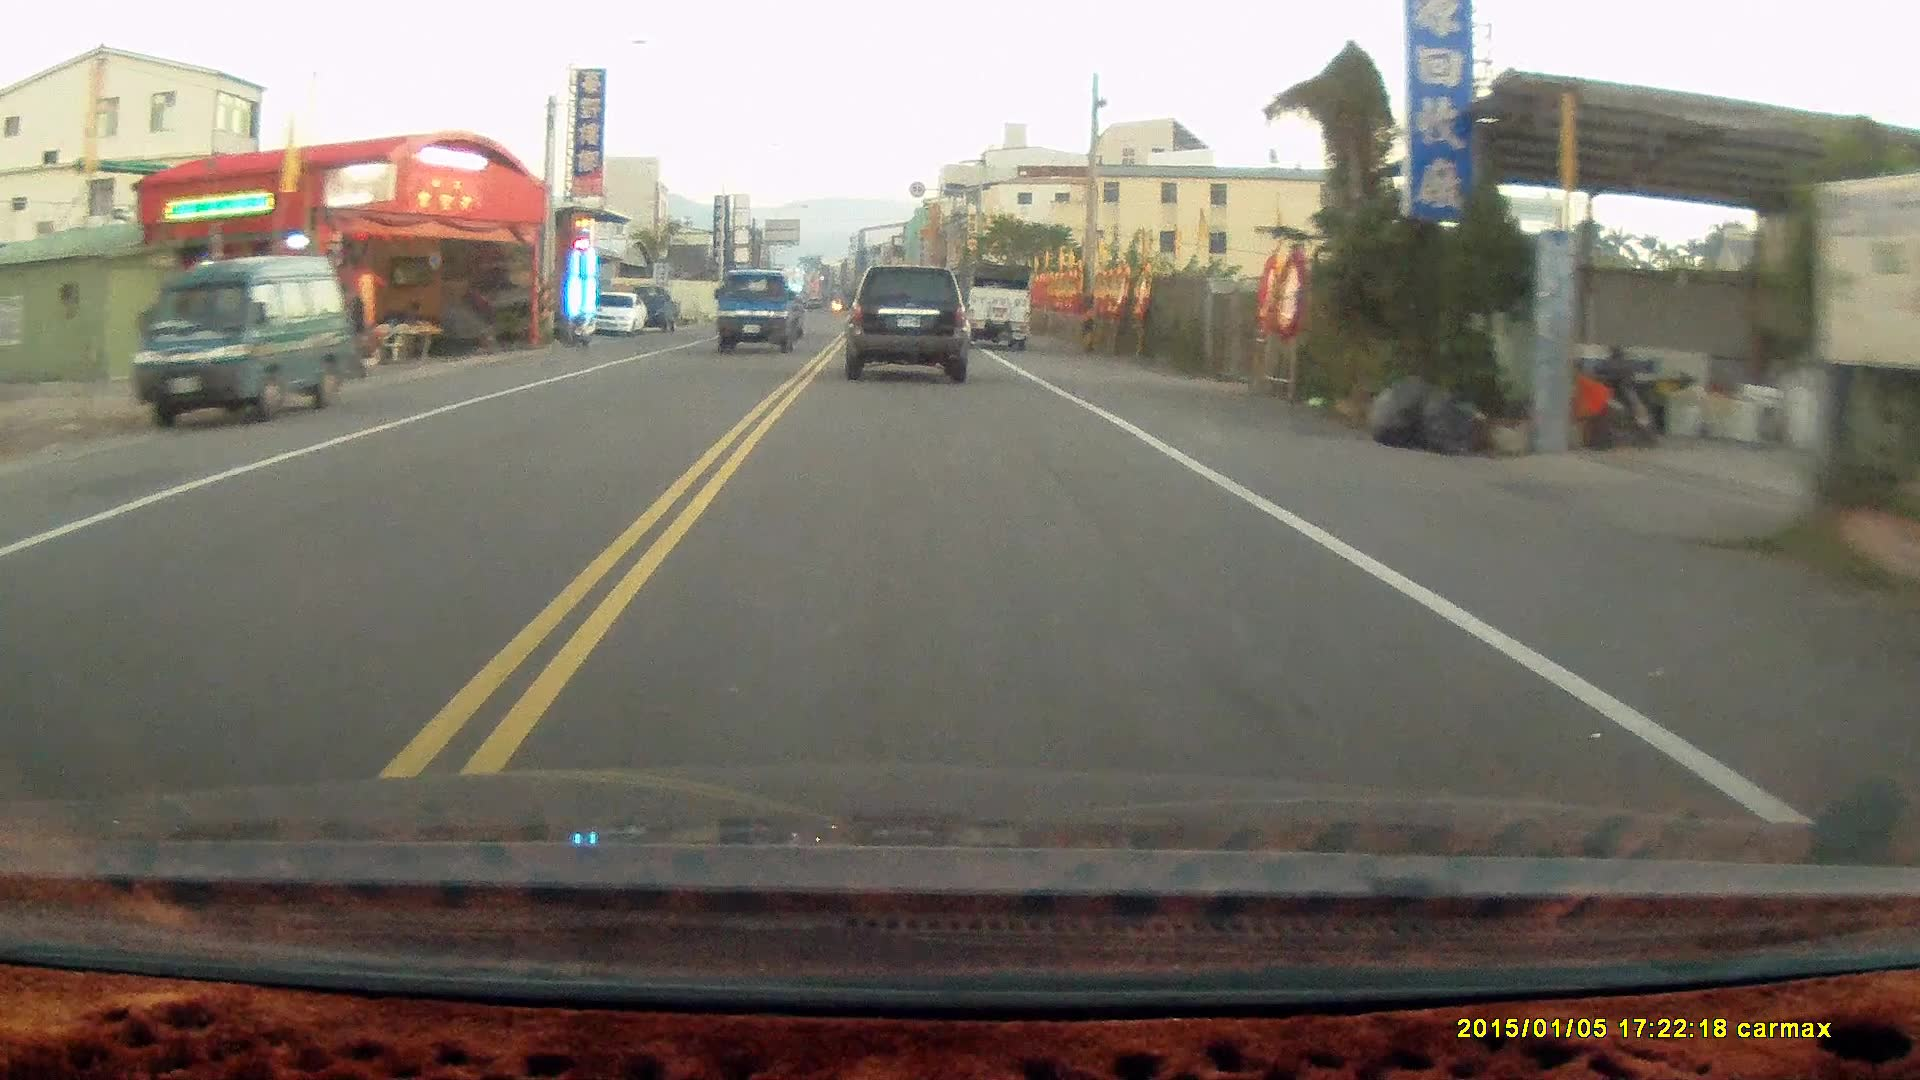vehicle: (138, 256, 348, 436), (847, 266, 971, 382), (939, 262, 1034, 351), (716, 270, 806, 357), (589, 291, 647, 338)
